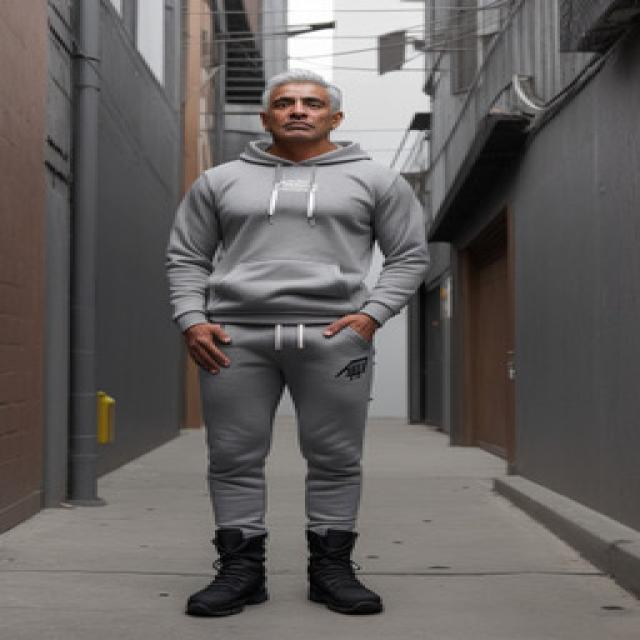Ai human 2: (155, 61, 442, 640)
